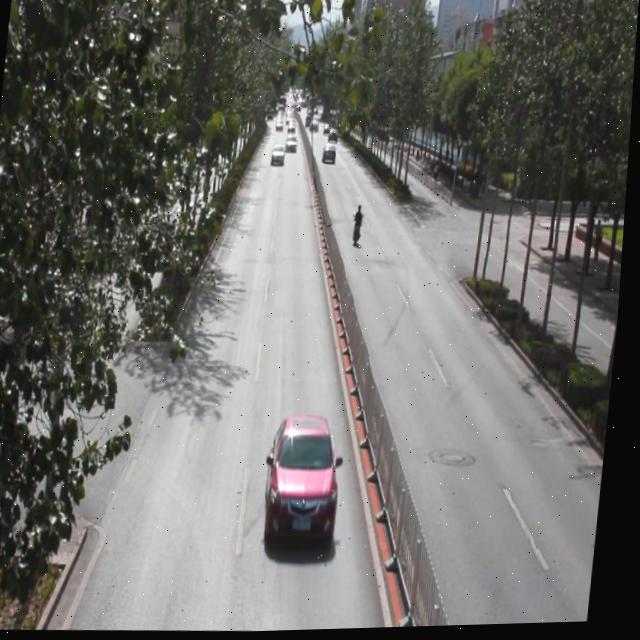car: (266, 415, 350, 547), (323, 142, 339, 165), (273, 145, 287, 169), (286, 134, 301, 153)
